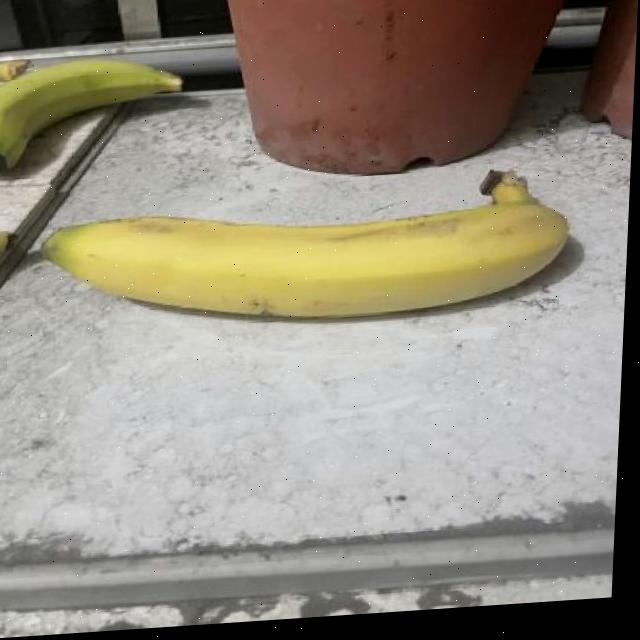banana: (36, 159, 591, 344), (0, 36, 203, 176)
